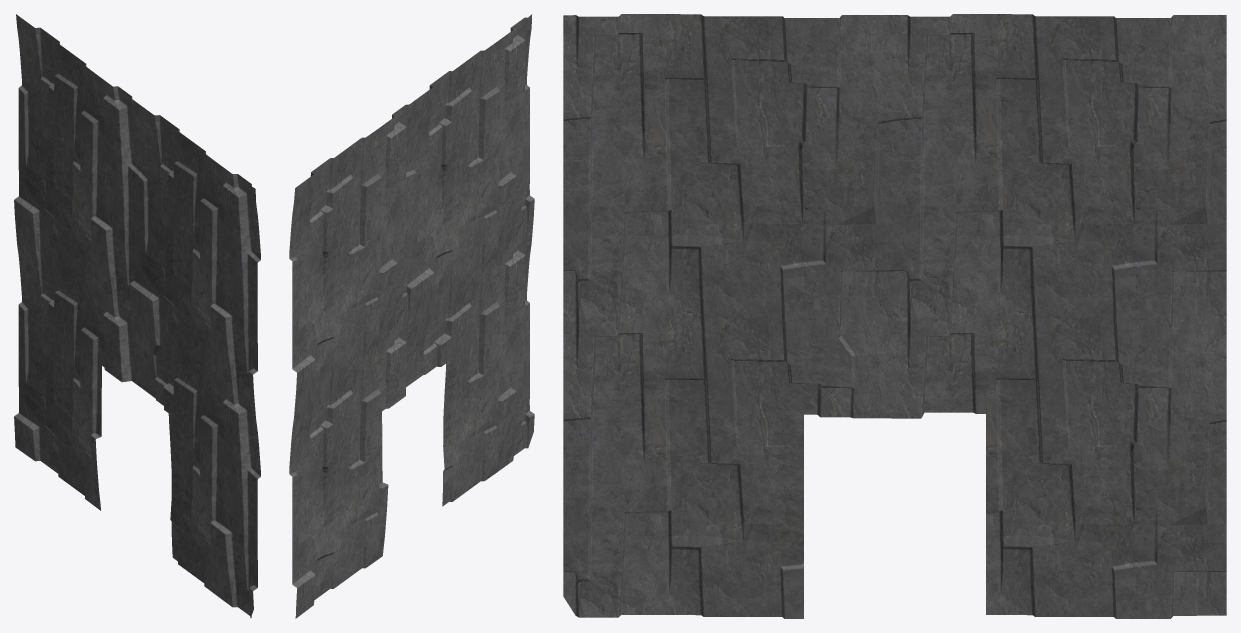
File: CaveWallLEntrance.fbx
The picture shows the model from 3 angles, left to right: view 1: azimuth 30°, elevation 25°; view 2: azimuth 150°, elevation 25°; view 3: azimuth 270°, elevation 25°; orthographic projection. The views are drawn at different scales.
Parts seen in each view (by area): view 1: SM_ENV_NATURE_Cave_Wall_L_Entrance_03.mo; view 2: SM_ENV_NATURE_Cave_Wall_L_Entrance_03.mo; view 3: SM_ENV_NATURE_Cave_Wall_L_Entrance_03.mo.
Boxes of the visible parts, x1=… form: SM_ENV_NATURE_Cave_Wall_L_Entrance_03.mo: x1=14, y1=14, x2=260, y2=617; SM_ENV_NATURE_Cave_Wall_L_Entrance_03.mo: x1=289, y1=14, x2=534, y2=618; SM_ENV_NATURE_Cave_Wall_L_Entrance_03.mo: x1=563, y1=14, x2=1226, y2=618.
Size of the model in its own units: 52.19 by 1640 by 1640.
Materials: 1 (1 with a texture image).
